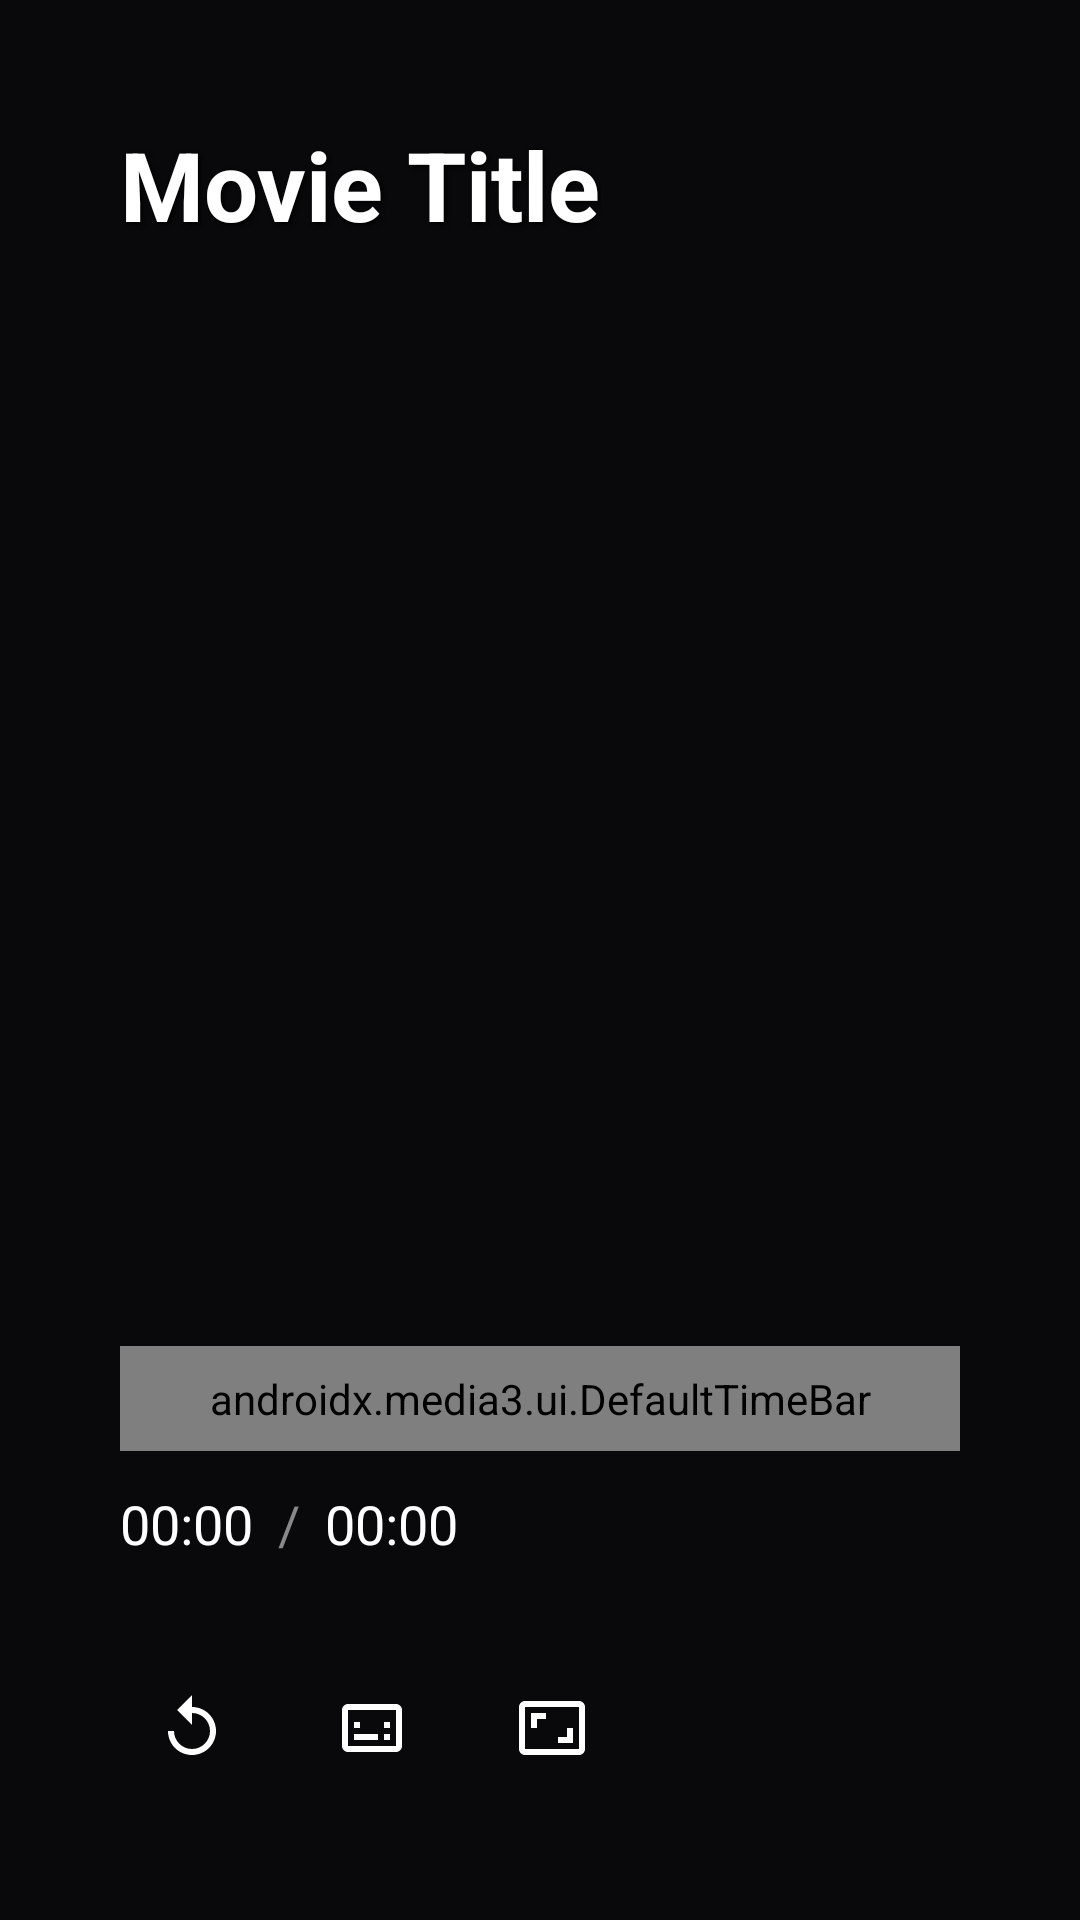

Icon click points for this 1080 x 1920 phone screenshot, format (x=x, y=y):
aspect ratio: (x=552, y=1728)
replay: (x=192, y=1725)
subtitles: (x=372, y=1728)
